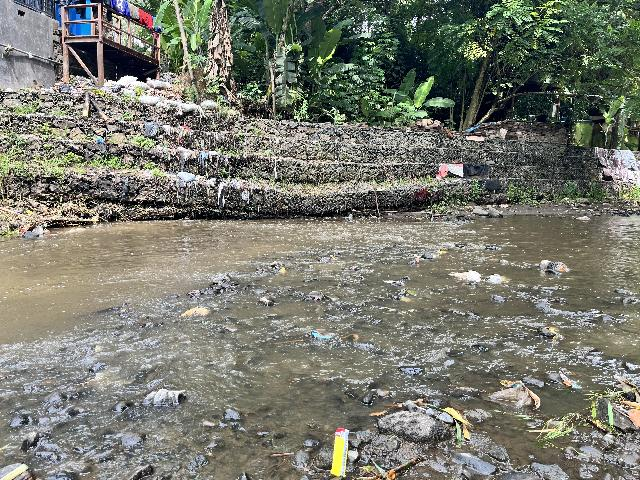Sampah Anorganik: (490, 377, 542, 414), (536, 255, 574, 280), (333, 425, 350, 479), (555, 370, 586, 393), (308, 326, 332, 342), (452, 270, 481, 282), (384, 277, 406, 289), (488, 273, 504, 284), (436, 249, 446, 255)
Sampah Organik: (591, 376, 640, 434), (438, 403, 477, 447), (525, 418, 576, 444), (363, 458, 420, 480), (0, 462, 30, 480), (77, 373, 110, 387), (265, 447, 297, 458), (177, 306, 211, 316), (545, 323, 560, 341), (384, 400, 411, 408), (343, 331, 359, 343), (368, 410, 386, 417), (407, 288, 420, 297), (186, 288, 200, 295), (42, 377, 53, 385), (278, 267, 287, 273), (413, 256, 420, 263)
